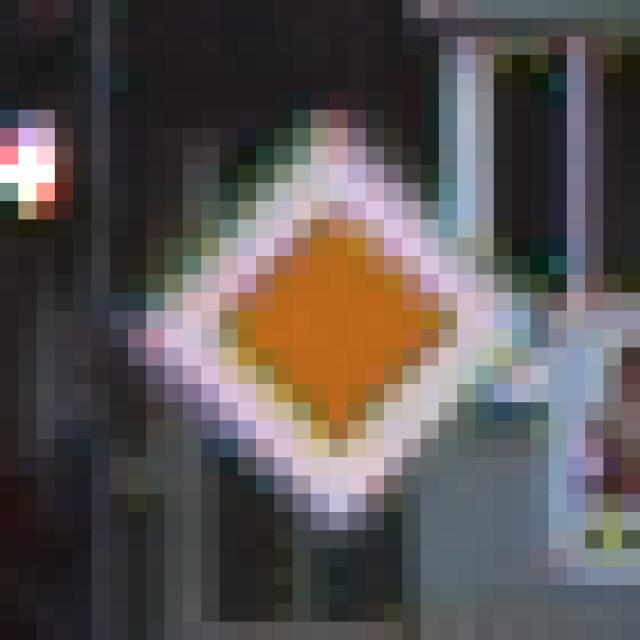Main Road: (93, 93, 532, 532)
